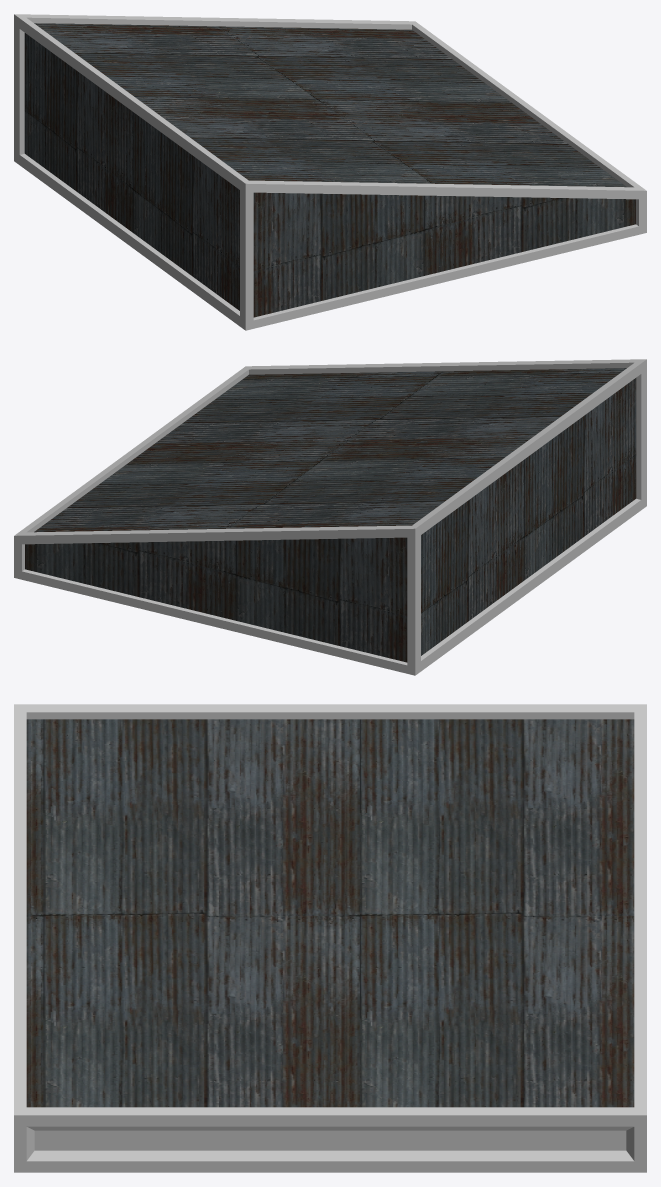
File: roof_mh_2.fbx
3 renders of one model, top to bottom at view 1: azimuth 30°, elevation 25°; view 2: azimuth 150°, elevation 25°; view 3: azimuth 270°, elevation 25°, orthographic. The views are drawn at different scales.
Visible parts, largest first — view 1: roof_mh_2; view 2: roof_mh_2; view 3: roof_mh_2.
Part boxes in pixels (x1,y1,x2,y2): roof_mh_2: [14, 14, 646, 330]; roof_mh_2: [14, 359, 646, 675]; roof_mh_2: [14, 704, 646, 1172].
Bounding box in the file's own units: 4 × 4 × 1.4.
